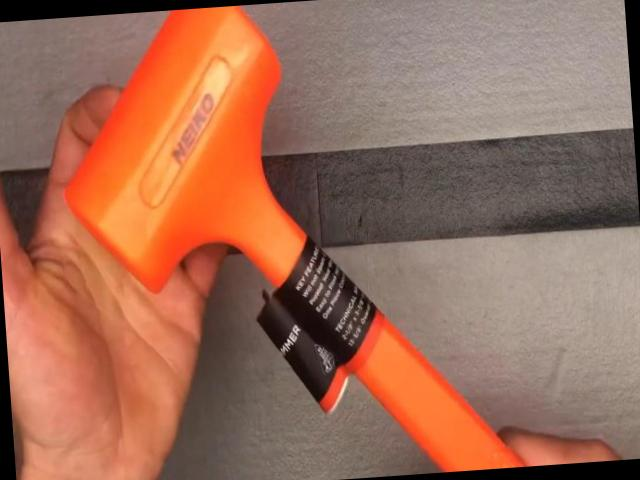hammer: (48, 0, 527, 480)
